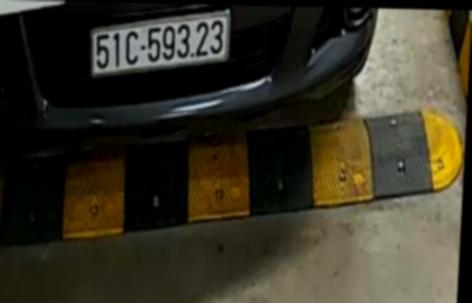License_Plate: (88, 14, 242, 80)
